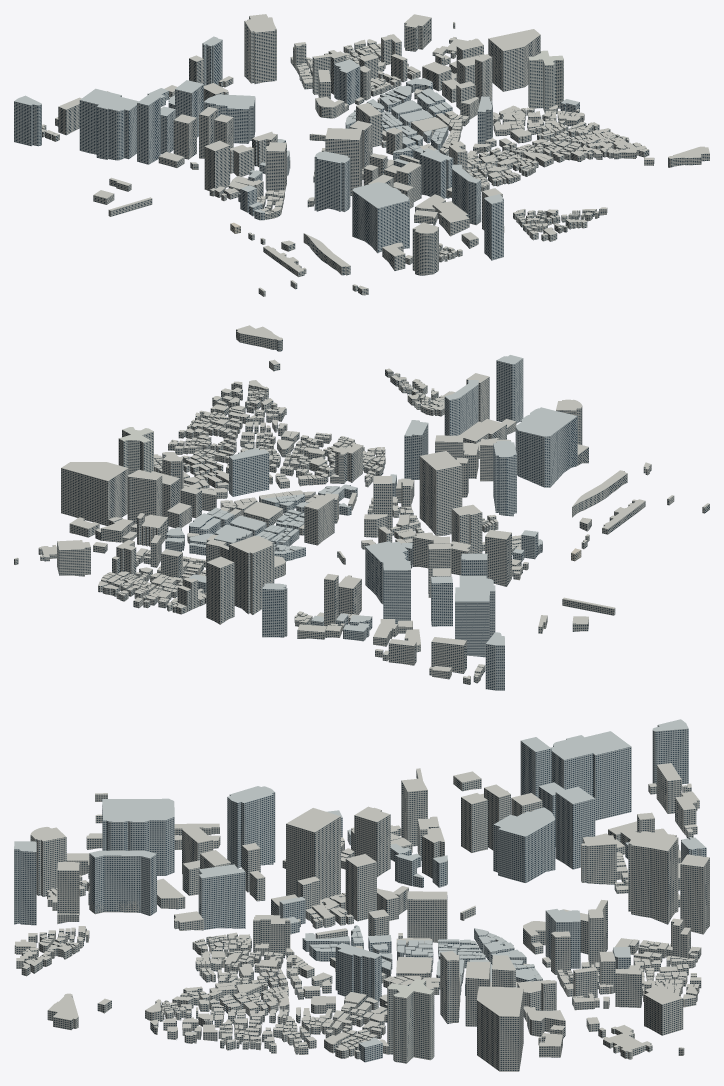
Rendered from city_-4_-2.glb.
3 renders of one model, top to bottom at view 1: azimuth 30°, elevation 25°; view 2: azimuth 150°, elevation 25°; view 3: azimuth 270°, elevation 25°, orthographic. The views are drawn at different scales.
Bounding box in the file's own units: 1084 × 158 × 1031.
Materials: 4 (4 with a texture image).
